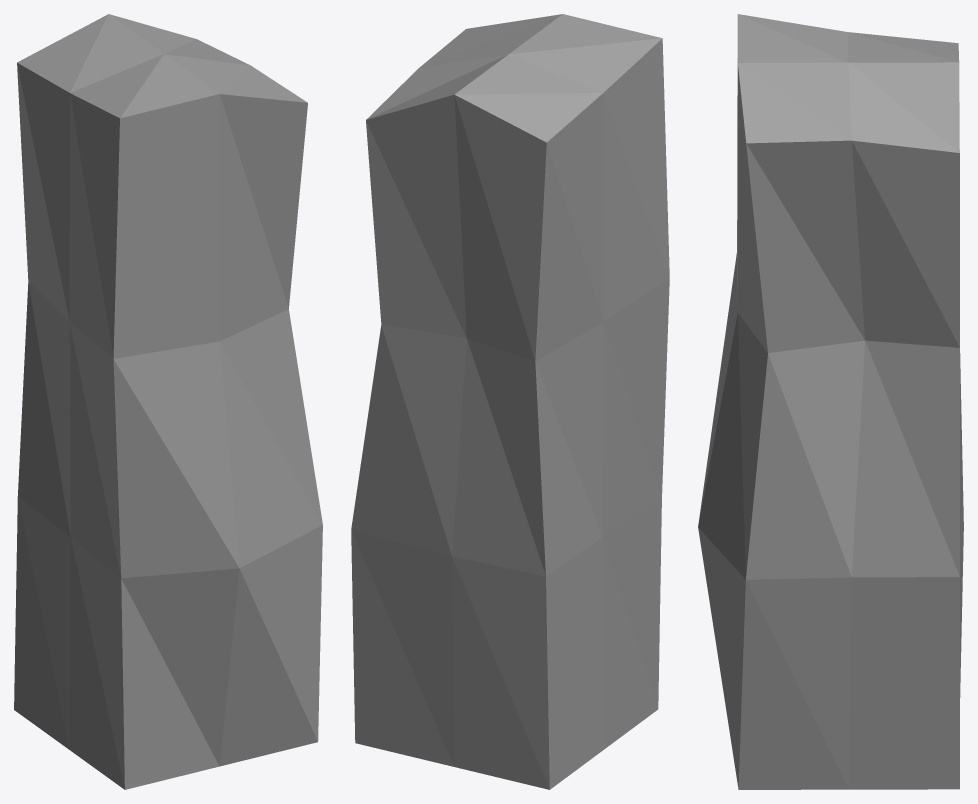
The model's file is Isl_12_Stone_2.fbx.
The picture shows the model from 3 angles, left to right: view 1: azimuth 30°, elevation 25°; view 2: azimuth 150°, elevation 25°; view 3: azimuth 270°, elevation 25°; orthographic projection.
Parts seen in each view (by area): view 1: Isl_12_Stone_2; view 2: Isl_12_Stone_2; view 3: Isl_12_Stone_2.
Boxes of the visible parts, x1,y1,x2,y2 form: Isl_12_Stone_2: (14,14,322,789); Isl_12_Stone_2: (351,14,669,789); Isl_12_Stone_2: (698,14,963,789).
Bounding box in the file's own units: 154 × 164 × 462.
1 material, 1 textured.
